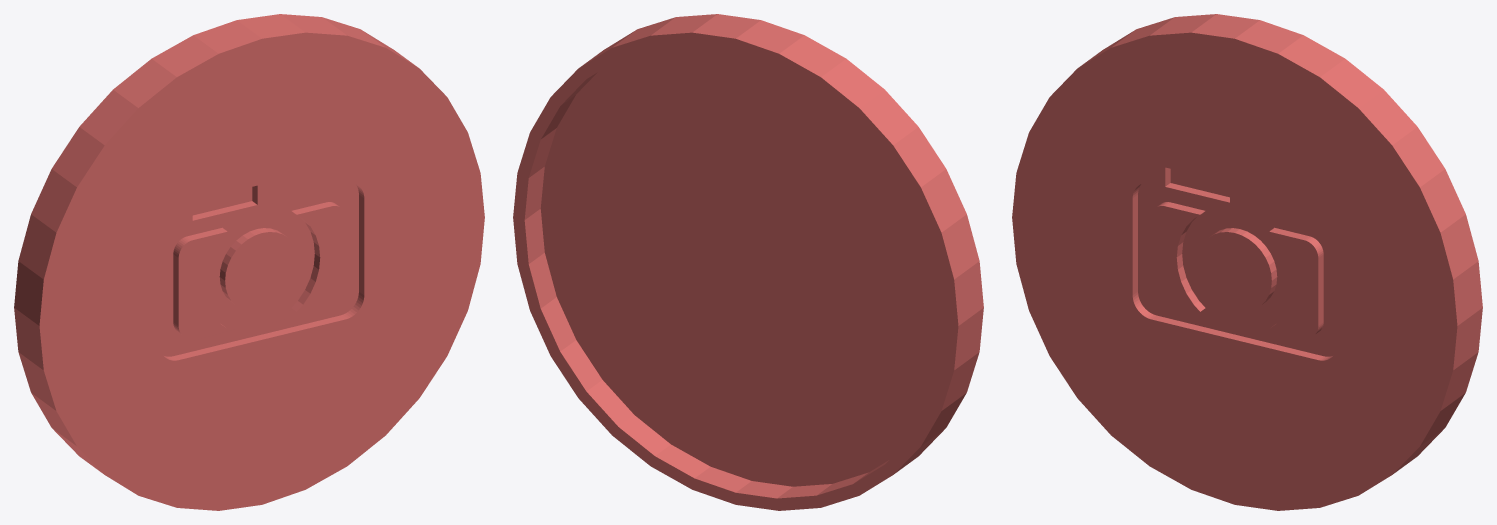
Rendered from ShutterSoftSkin.glb.
3 renders of one model, left to right at view 1: azimuth 30°, elevation 25°; view 2: azimuth 150°, elevation 25°; view 3: azimuth 330°, elevation 25°, orthographic.
Parts seen in each view (by area): view 1: geometry_0; view 2: geometry_0; view 3: geometry_0.
Boxes of the visible parts, x1=… form: geometry_0: x1=14, y1=14, x2=484, y2=510; geometry_0: x1=513, y1=14, x2=983, y2=510; geometry_0: x1=1012, y1=14, x2=1482, y2=510.
Size of the model in its own units: 9.6 by 9.6 by 0.95.
